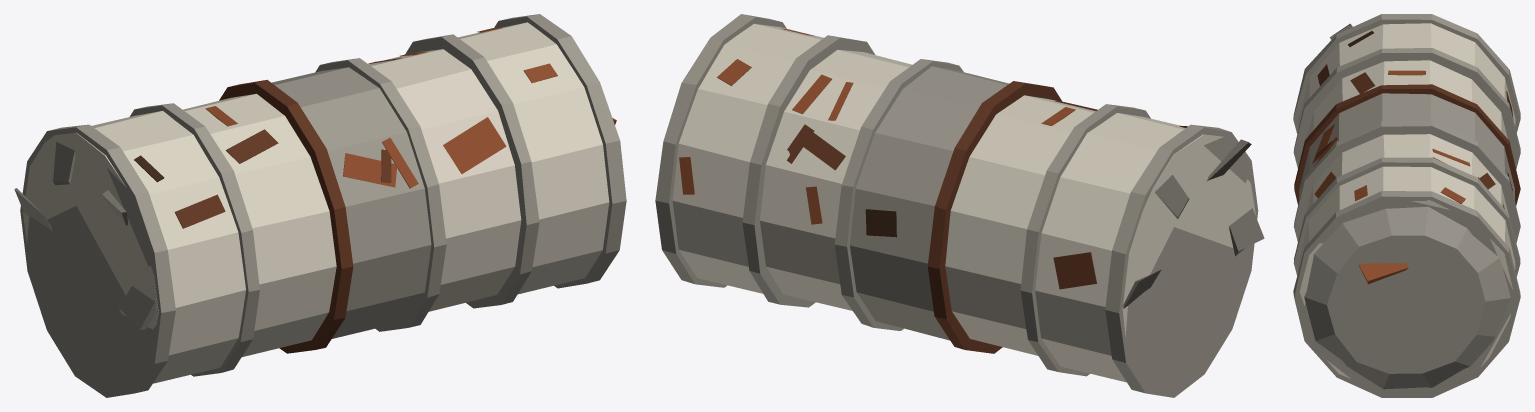
The model's file is hull_drum.glb.
3 renders of one model, left to right at view 1: azimuth 30°, elevation 25°; view 2: azimuth 150°, elevation 25°; view 3: azimuth 270°, elevation 25°, orthographic. The views are drawn at different scales.
Visible parts, largest first — view 1: hull_drum; view 2: hull_drum; view 3: hull_drum.
Part boxes in pixels (x1,y1,x2,y2): hull_drum: (14,14,626,397); hull_drum: (655,14,1264,397); hull_drum: (1293,14,1520,397).
Size of the model in its own units: 45.21 by 20.48 by 20.99.
